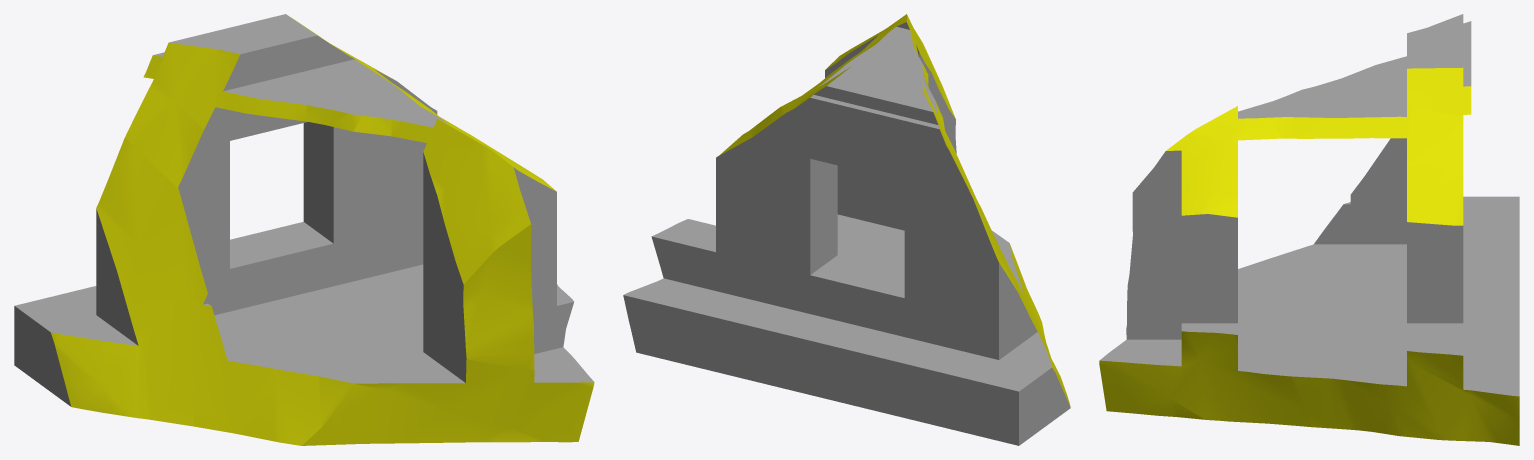
The model's file is C_Shatter_01.fbx.
The picture shows the model from 3 angles, left to right: view 1: azimuth 30°, elevation 25°; view 2: azimuth 150°, elevation 25°; view 3: azimuth 270°, elevation 25°; orthographic projection. The views are drawn at different scales.
Visible parts, largest first — view 1: shard4; view 2: shard4; view 3: shard4.
Part boxes in pixels (x1,y1,x2,y2): shard4: (14, 14, 594, 445); shard4: (623, 14, 1070, 445); shard4: (1099, 14, 1519, 445).
Size of the model in its own units: 7.62 by 5.27 by 6.78.
